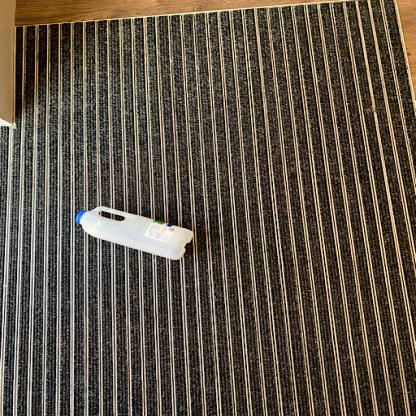trash: (71, 207, 198, 262)
